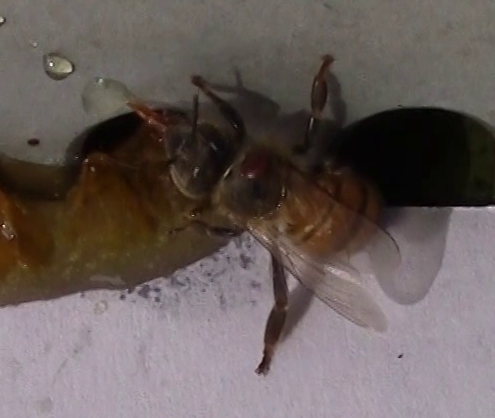Varroa destructor: (236, 149, 274, 182)
